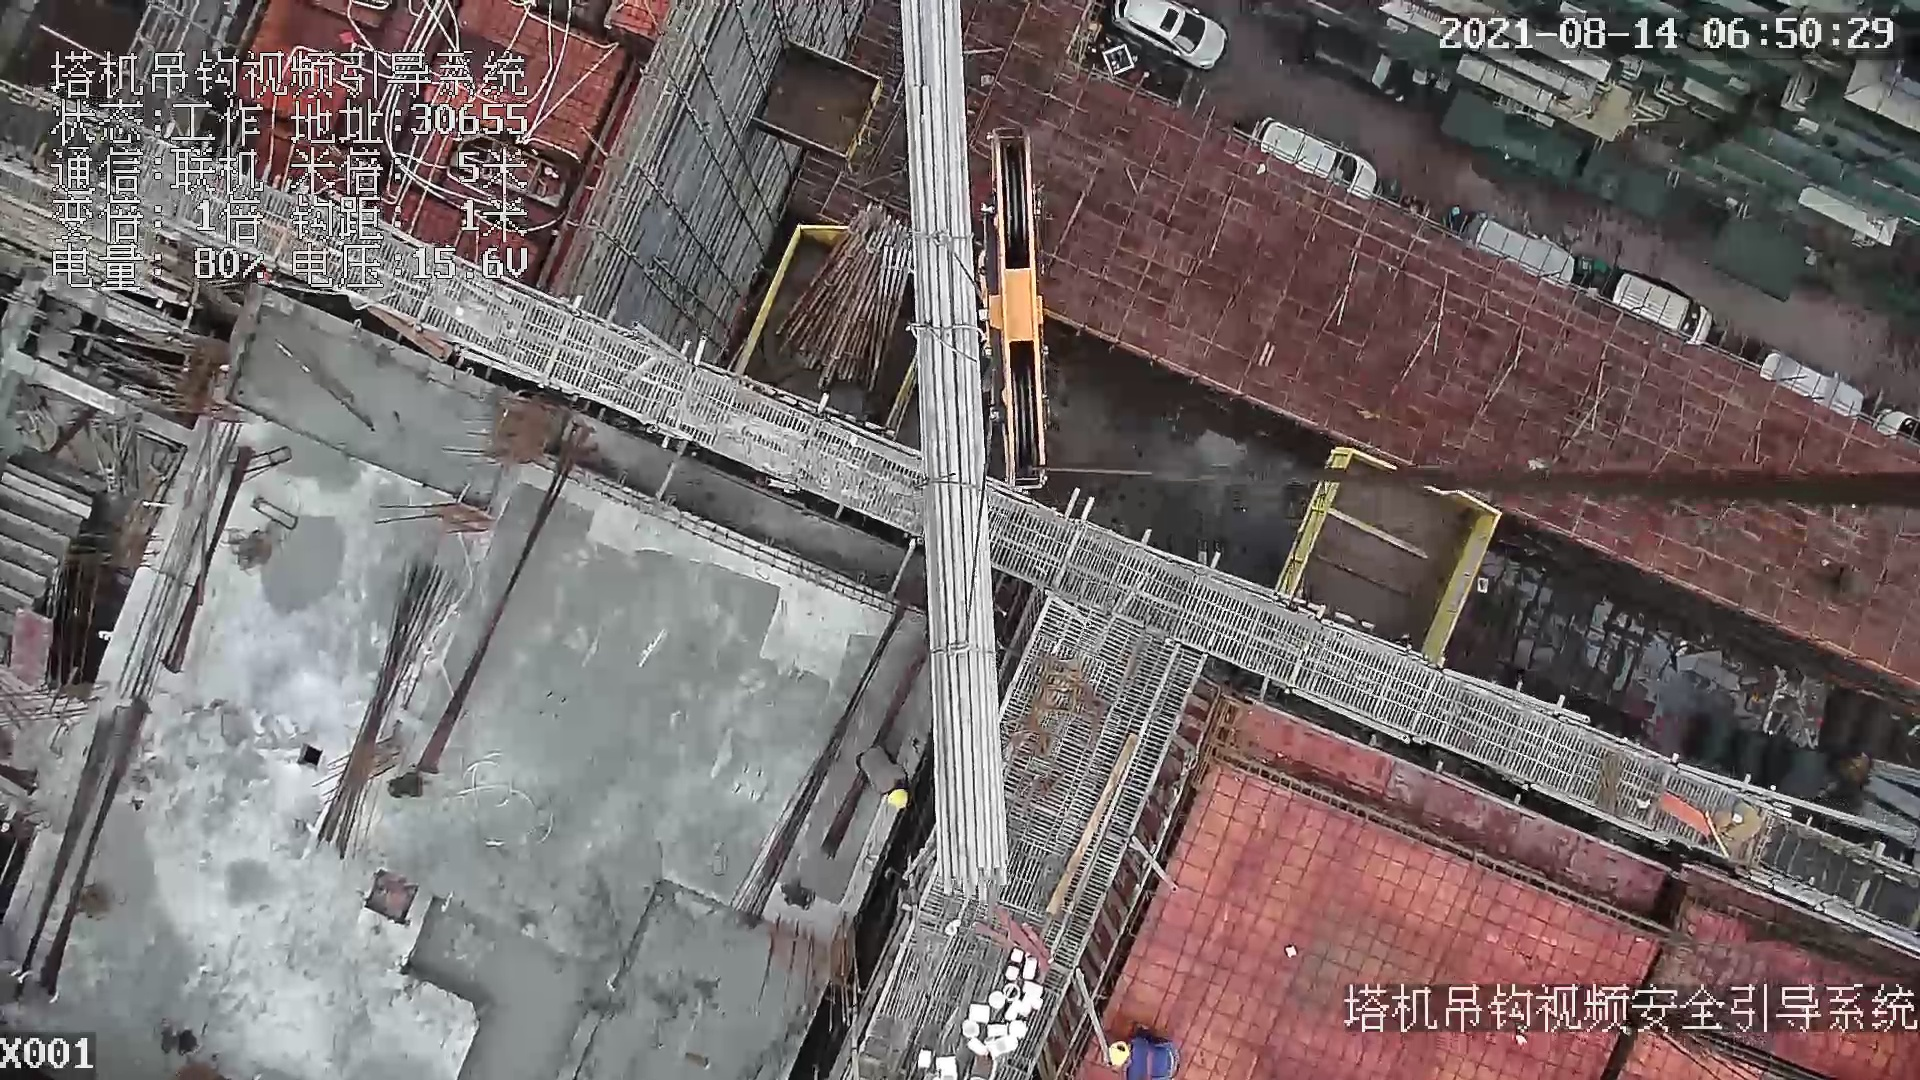helmet: (880, 785, 915, 816), (1106, 1032, 1134, 1072)
hook: (964, 126, 1055, 494)
person: (855, 737, 923, 820), (1119, 1027, 1183, 1077)
